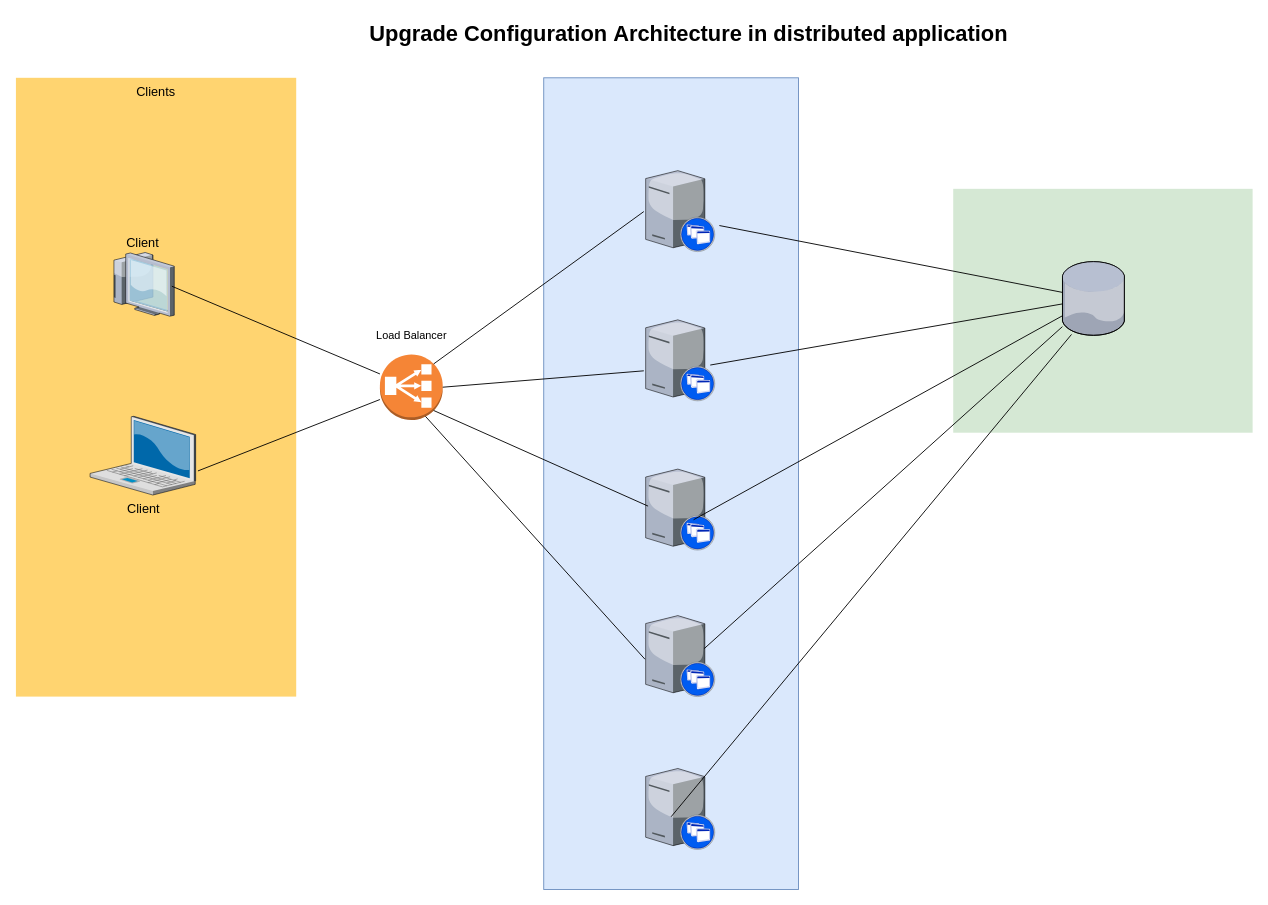
Some shapes in this 1268 by 905 pixel diagram are drawn without their labels. Here are the shapes that lost their labels. From the top down, the box of each, then its label:
(953, 188, 1252, 432): Data Base
(543, 77, 799, 890): Applications Server Farm with Upgrade Configuration at Startup
